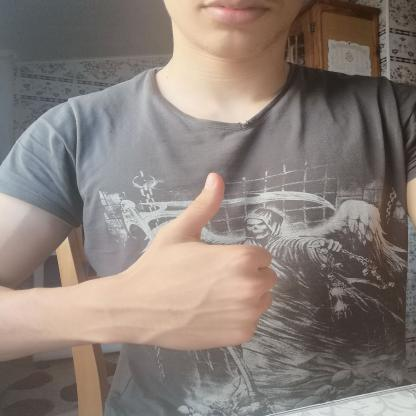ALIF: (100, 162, 295, 373)
